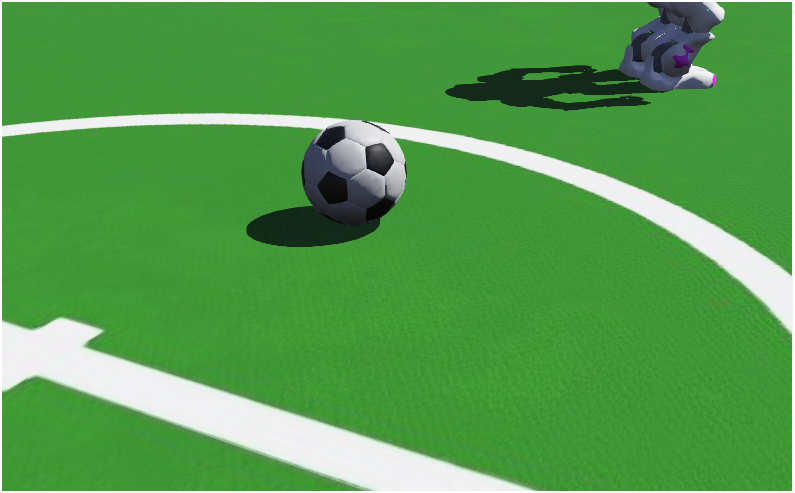Ball: (221, 50, 476, 299)
